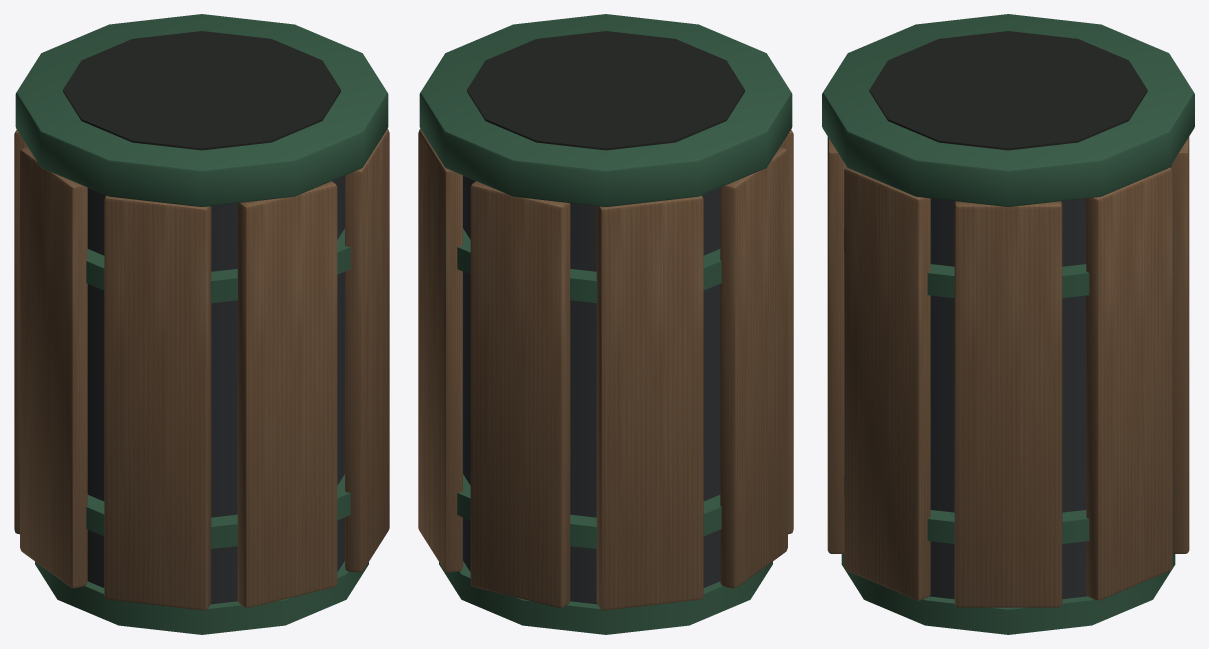
The model's file is trash_course.glb.
3 views of the same model, side by side, from view 1: azimuth 30°, elevation 25°; view 2: azimuth 150°, elevation 25°; view 3: azimuth 270°, elevation 25° (orthographic).
Visible parts, largest first — view 1: trash_course_body; view 2: trash_course_body; view 3: trash_course_body.
Part boxes in pixels (left/top/right/bottom): trash_course_body: left=14, top=14, right=389, bottom=634; trash_course_body: left=418, top=14, right=793, bottom=634; trash_course_body: left=822, top=14, right=1194, bottom=634.
Size of the model in its own units: 0.536 by 0.753 by 0.536.
4 materials, 1 textured.
